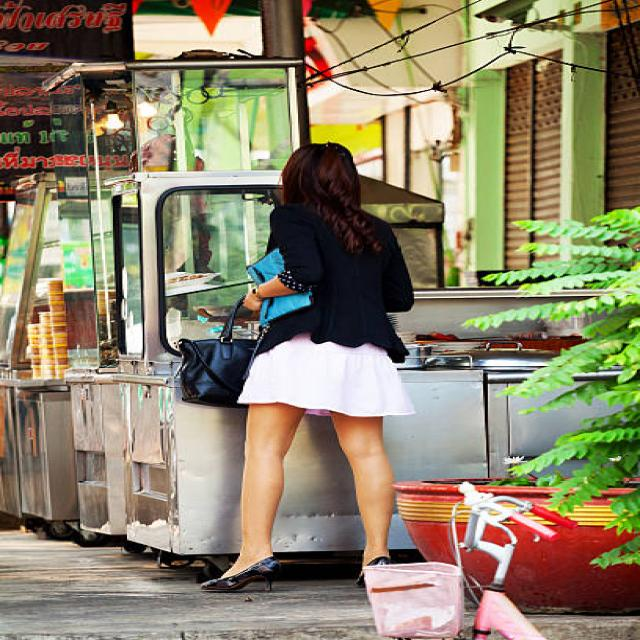Emperan: (12, 74, 640, 588)
